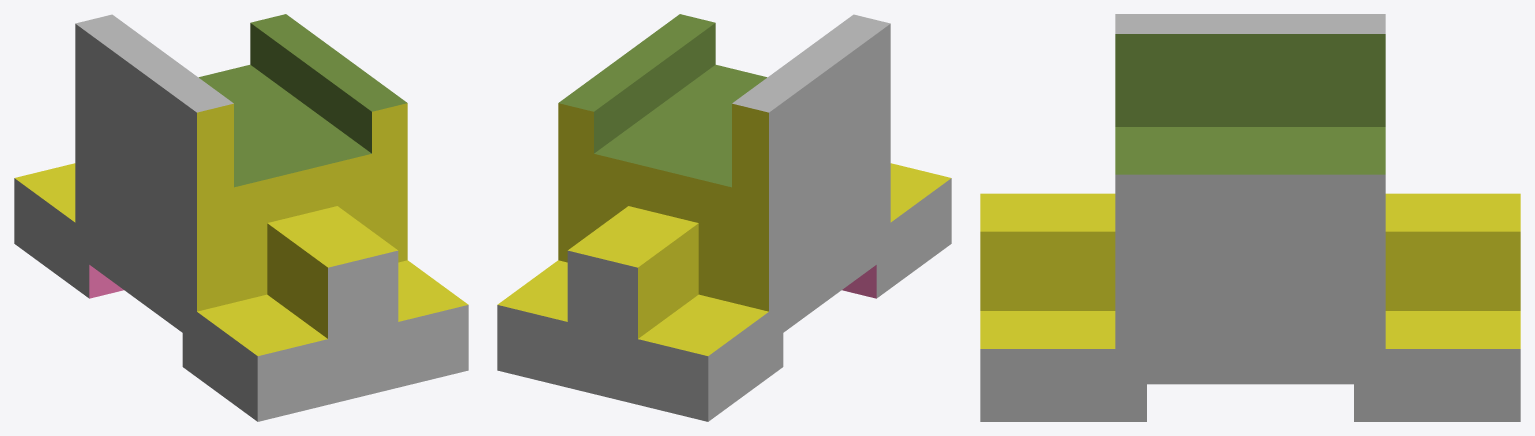
The picture shows the model from 3 angles, left to right: view 1: azimuth 30°, elevation 25°; view 2: azimuth 150°, elevation 25°; view 3: azimuth 270°, elevation 25°; orthographic projection. The views are drawn at different scales.
Parts seen in each view (by area): view 1: Solid1; view 2: Solid1; view 3: Solid1.
Boxes of the visible parts, x1=… form: Solid1: x1=14, y1=14, x2=468, y2=421; Solid1: x1=497, y1=14, x2=951, y2=421; Solid1: x1=980, y1=14, x2=1520, y2=421.
Size of the model in its own units: 0.05 by 0.06 by 0.1.
